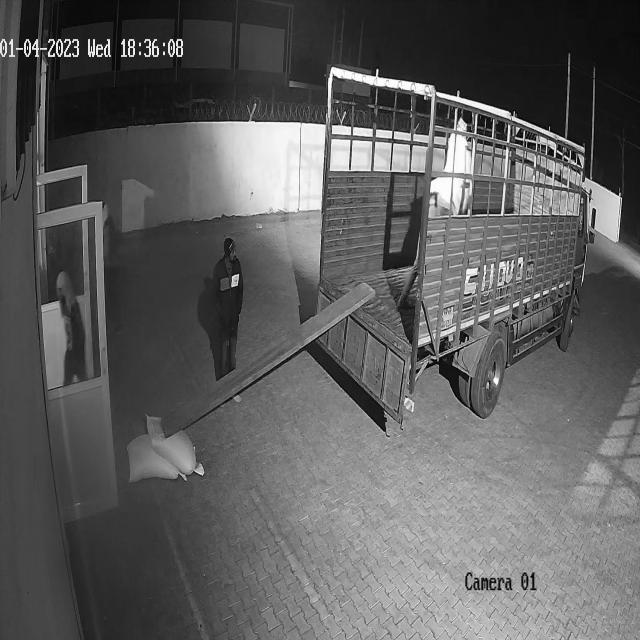sack: (429, 119, 474, 216), (145, 414, 206, 475), (125, 435, 185, 481)
